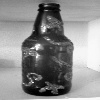beer: (23, 1, 76, 100)
